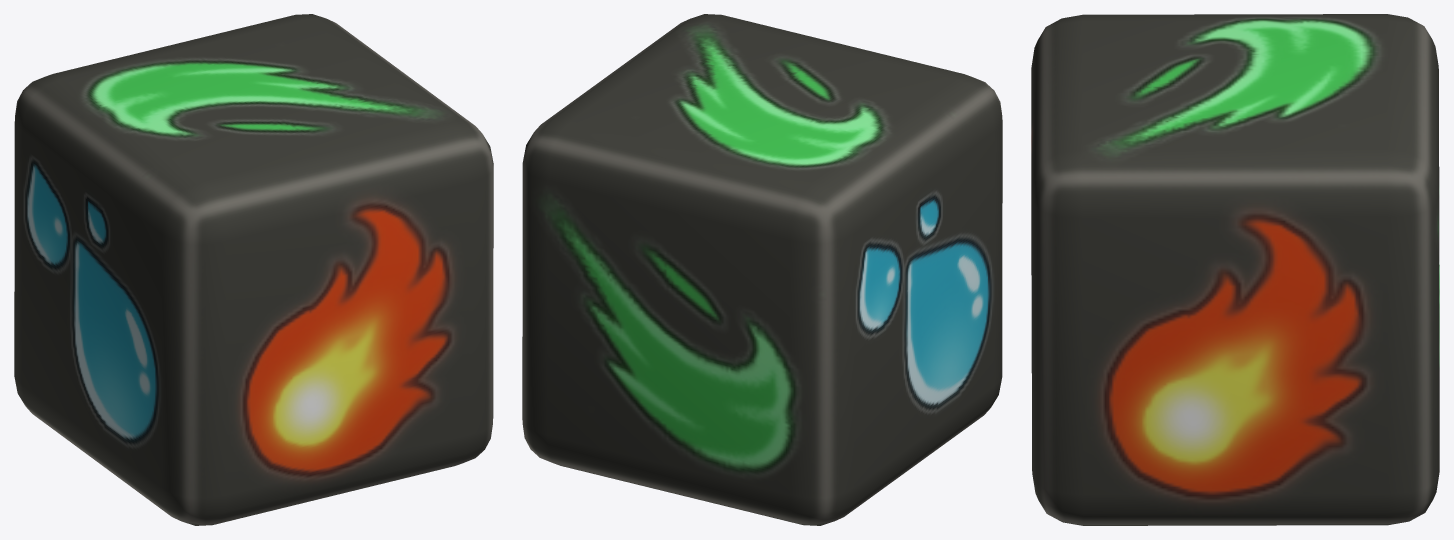
The model's file is Dice.FBX.
3 views of the same model, side by side, from view 1: azimuth 30°, elevation 25°; view 2: azimuth 150°, elevation 25°; view 3: azimuth 270°, elevation 25° (orthographic). The views are drawn at different scales.
Visible parts, largest first — view 1: Dice01; view 2: Dice01; view 3: Dice01.
Part boxes in pixels (box(x1,y1,x2,y2)): Dice01: box(14, 14, 493, 525); Dice01: box(522, 14, 1002, 525); Dice01: box(1031, 14, 1439, 525).
Size of the model in its own units: 50.03 by 50.12 by 50.13.
